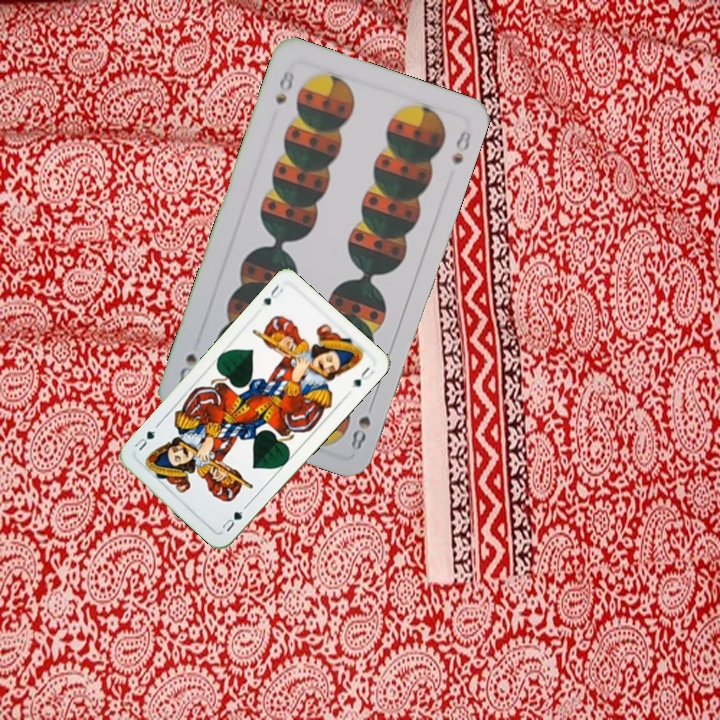GU: (218, 502, 249, 534), (258, 280, 286, 309)
S8: (346, 411, 373, 453), (271, 66, 297, 107)
